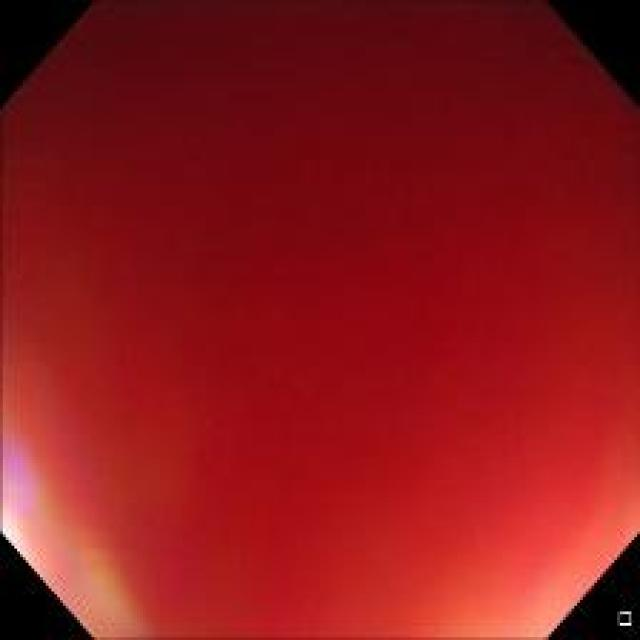color misalignment: (9, 8, 626, 630)
